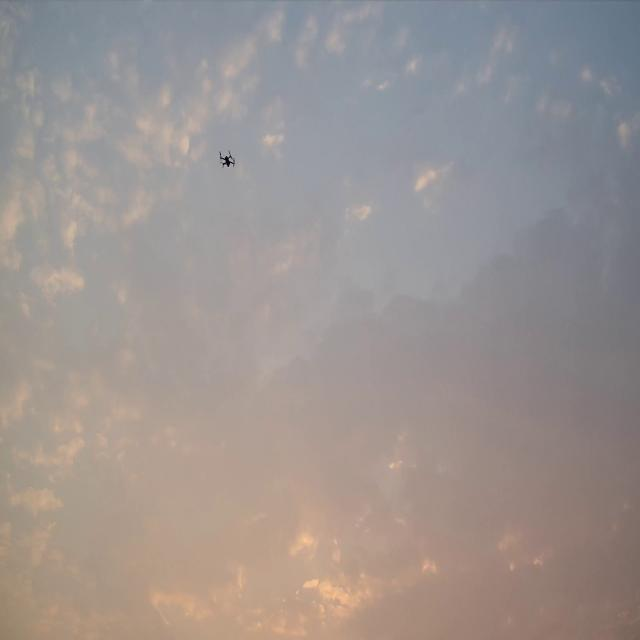drone: (218, 150, 235, 168)
